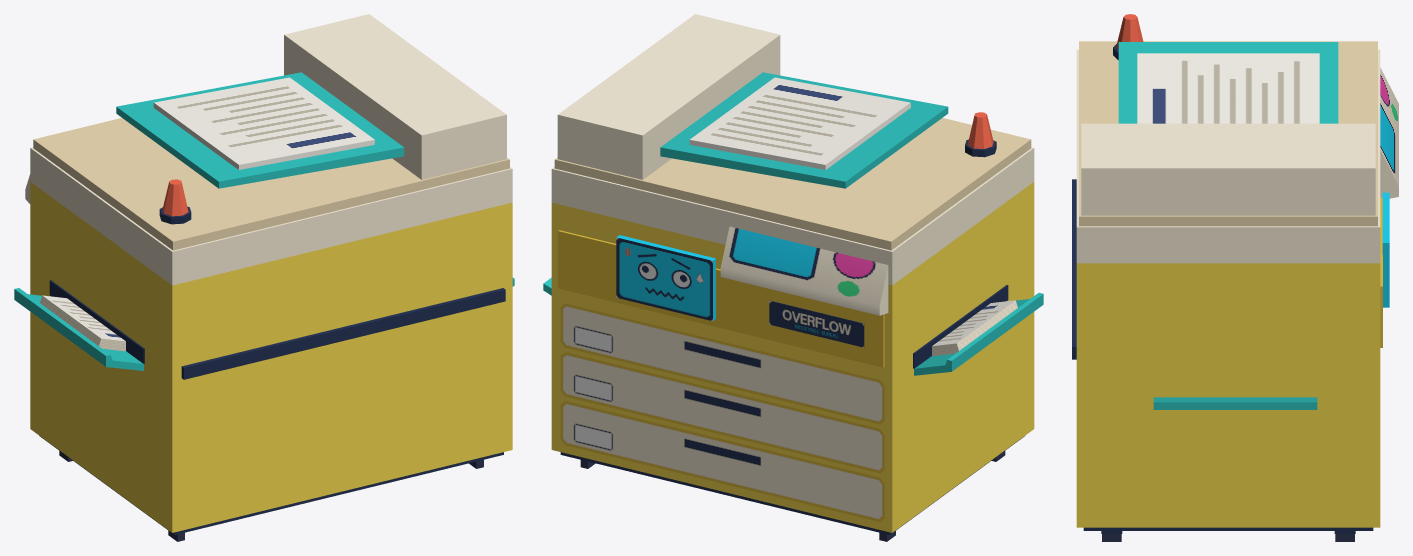
The model's file is machine_bureau_copier_lod1.glb.
3 renders of one model, left to right at view 1: azimuth 30°, elevation 25°; view 2: azimuth 150°, elevation 25°; view 3: azimuth 270°, elevation 25°, orthographic. The views are drawn at different scales.
Parts seen in each view (by area): view 1: machine_bureau_copier_LOD1; view 2: machine_bureau_copier_LOD1; view 3: machine_bureau_copier_LOD1.
Part boxes in pixels (<box>): machine_bureau_copier_LOD1: <box>14,14,514,541</box>; machine_bureau_copier_LOD1: <box>543,14,1043,541</box>; machine_bureau_copier_LOD1: <box>1072,14,1398,541</box>.
Size of the model in its own units: 22 by 18 by 14.
1 material, 1 textured.
